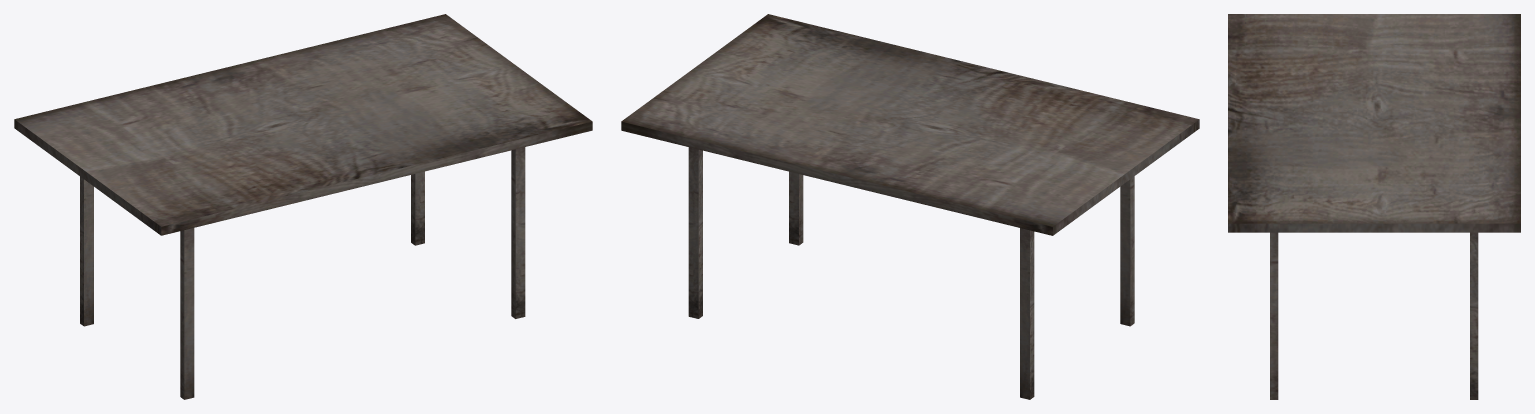
Rendered from Table01.glb.
The picture shows the model from 3 angles, left to right: view 1: azimuth 30°, elevation 25°; view 2: azimuth 150°, elevation 25°; view 3: azimuth 270°, elevation 25°; orthographic projection.
Visible parts, largest first — view 1: _Table01; view 2: _Table01; view 3: _Table01.
Part boxes in pixels (<box>): _Table01: <box>14,14,592,399</box>; _Table01: <box>621,14,1199,399</box>; _Table01: <box>1228,14,1520,399</box>.
Bounding box in the file's own units: 2.11 × 0.9328 × 1.25.
Materials: 1 (1 with a texture image).
